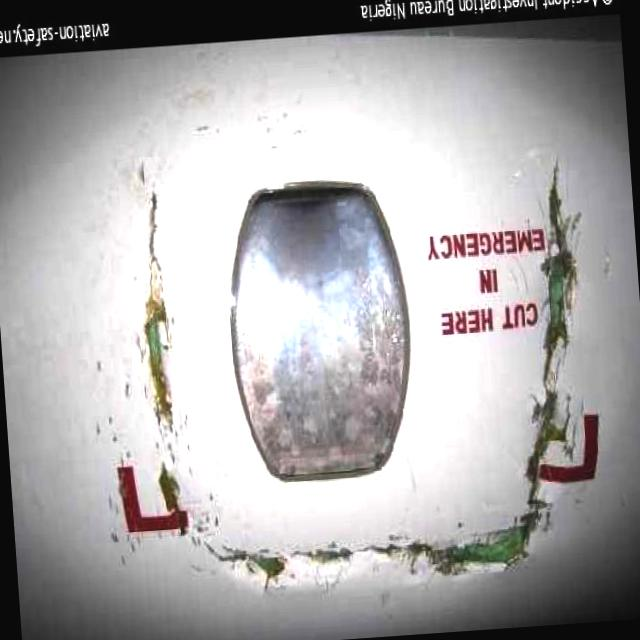crack: (195, 494, 550, 596), (498, 155, 596, 506), (133, 181, 181, 440)
